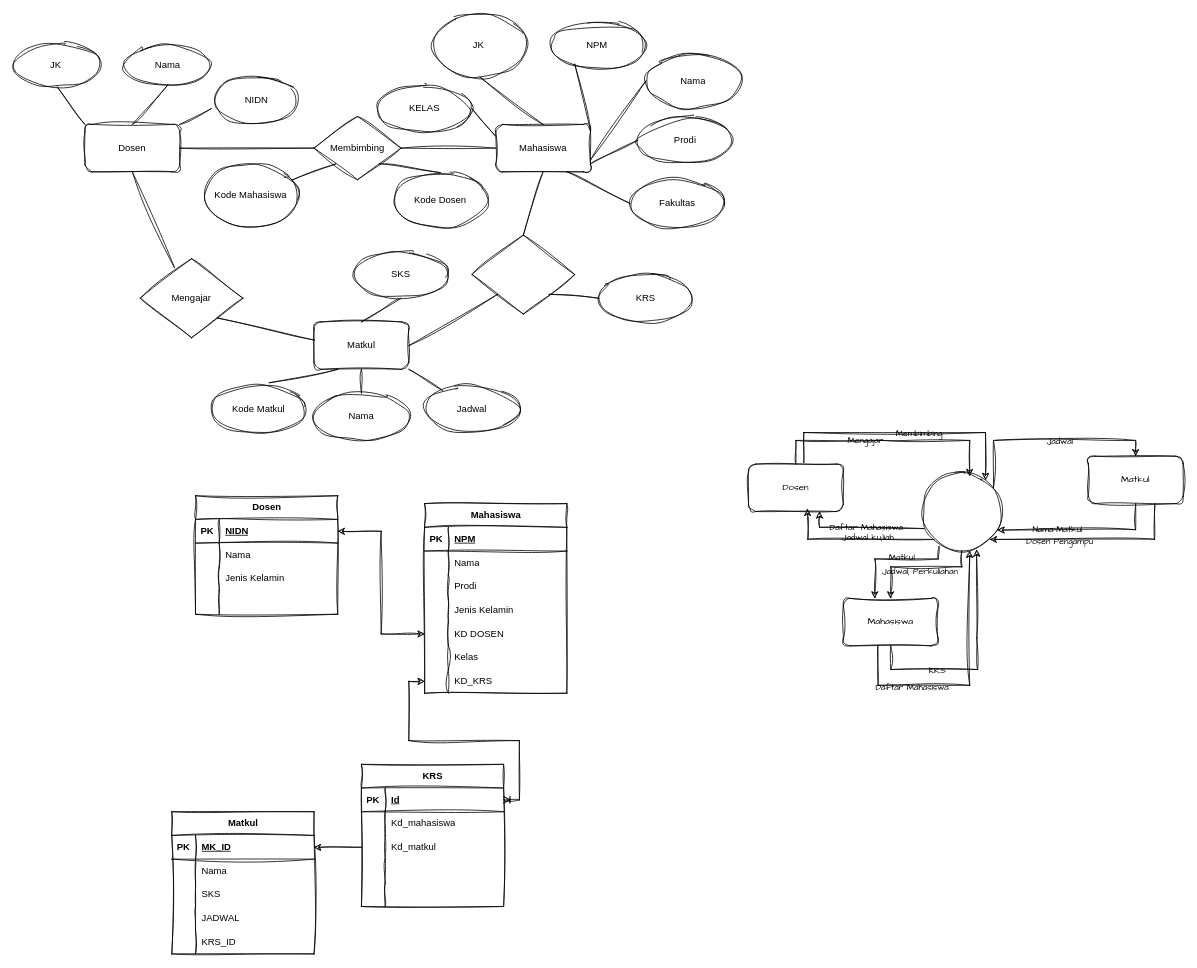
Image size: 1197x968. Some labels were removed from this diagram. The centre of each missing label's shape, as x and y in pixels:
"Belajar / Mengambil" belongs at (523,274).
"Sistem Perkuliahan" belongs at (961,511).
